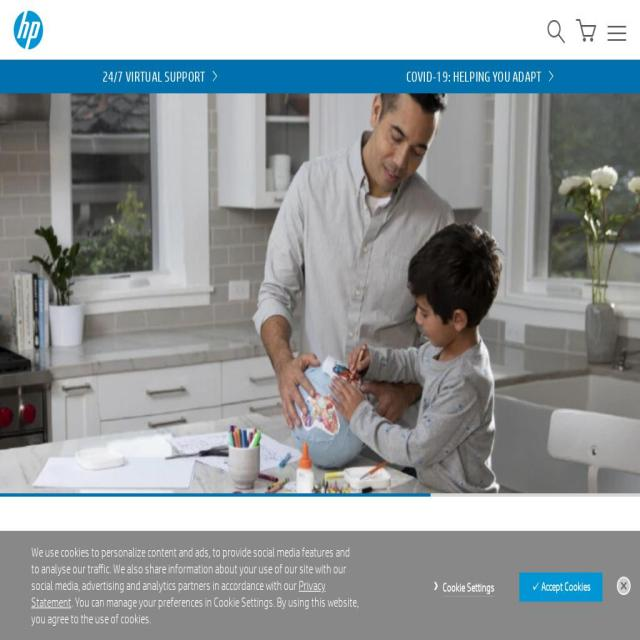button: (397, 60, 563, 93), (93, 60, 227, 93), (20, 625, 90, 640), (531, 579, 591, 594), (442, 580, 494, 597), (576, 17, 598, 45), (546, 21, 567, 47)
heading: (19, 529, 326, 555)
image: (0, 493, 154, 497), (621, 576, 634, 595)
link: (31, 577, 326, 611)
text: (31, 544, 350, 594), (19, 558, 320, 600), (31, 594, 359, 628), (404, 62, 556, 93), (101, 62, 220, 93), (40, 626, 70, 640)
